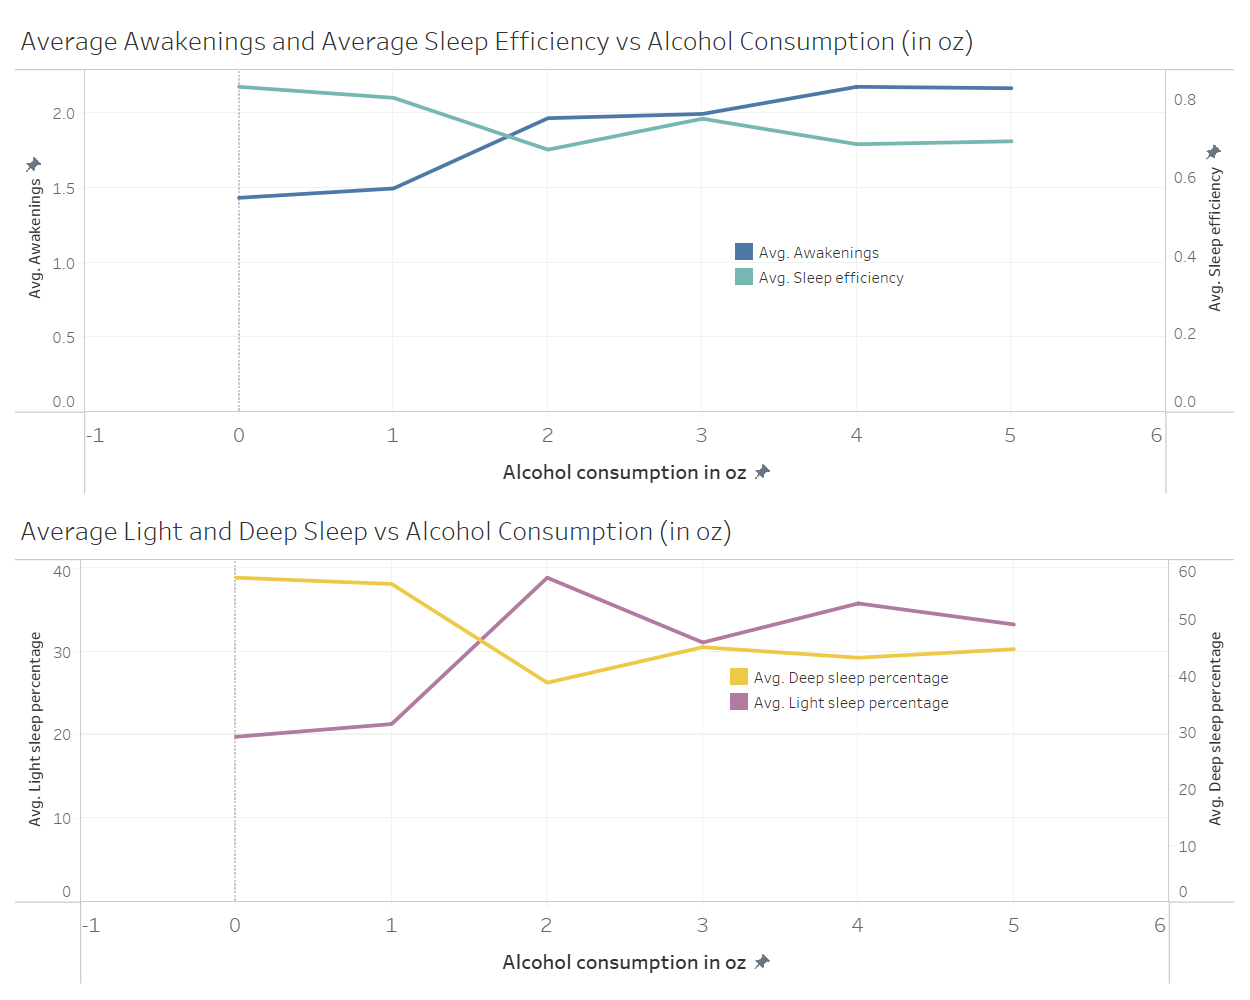

Layout of this report page (visuals, bound fields, positions):
{"tool":"tableau","page":{"name":"Dashboard Alcohol","canvas":[1000,800],"ordinal":2},"visuals":[{"type":"worksheet","title":"Alcohol1","mark":"Automatic","rows":["Awakenings","Deep_sleep_percentage"],"cols":["Alcohol_consumption"],"box":[8,8,984,392]},{"type":"legend","title":"Alcohol1","param":"[federated.1egdo8a0x6abof1dpv9a90n0f7e9].[:Measure Names]","box":[568,192,182,40]},{"type":"worksheet","title":"Alcohol2","mark":"Automatic","rows":["Sleep_efficiency","Light_sleep_percentage"],"cols":["Alcohol_consumption"],"box":[8,400,984,392]},{"type":"legend","title":"Alcohol2","param":"[federated.1egdo8a0x6abof1dpv9a90n0f7e9].[:Measure Names]","box":[561,529,183,58]}]}

Visuals, with their boxes in screenshot pixels (x1, y1, x2, y2), scaled from the page's 1000x800 canvas onto the 1250x1000 screenshot:
"Alcohol1" worksheet: 10/10/1240/500
"Alcohol1" legend: 710/240/938/290
"Alcohol2" worksheet: 10/500/1240/990
"Alcohol2" legend: 701/661/930/734
